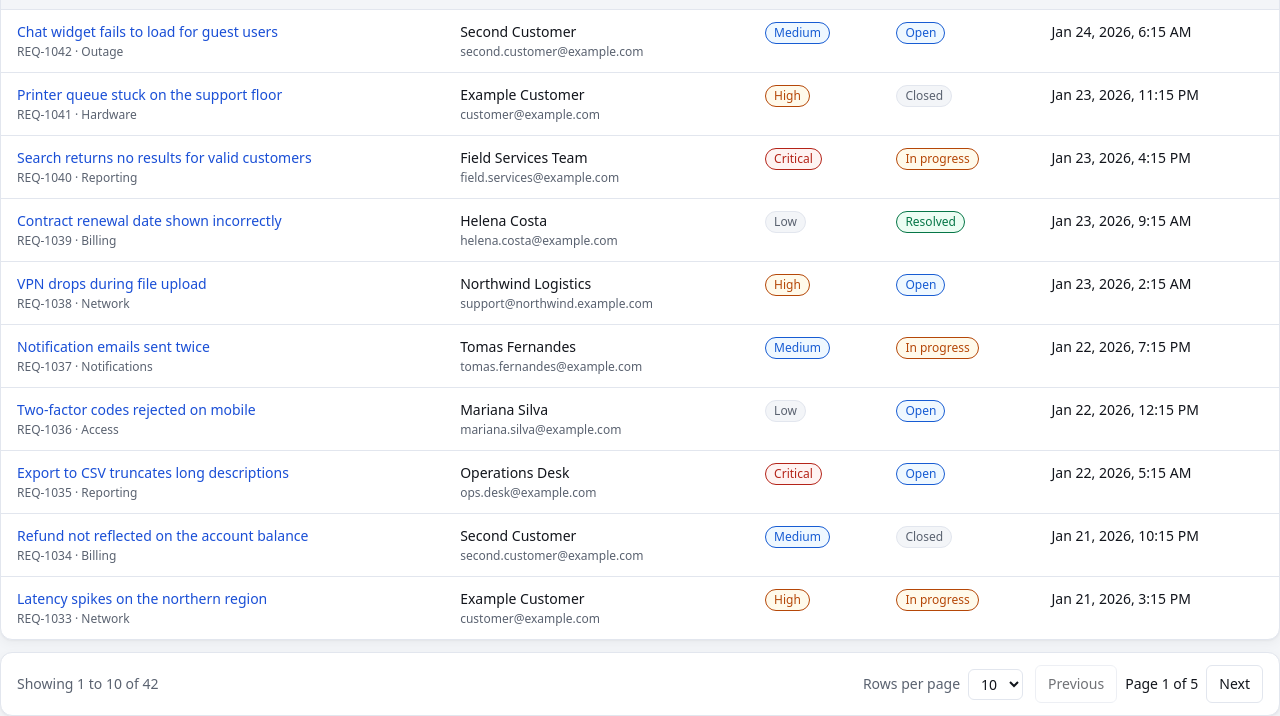
Test: RequestsListPage › keeps the previous page visible while the next one loads
(page scrolled)
Click the button "Next". click: (1235, 684)
box: 1206,665 -> 1263,703
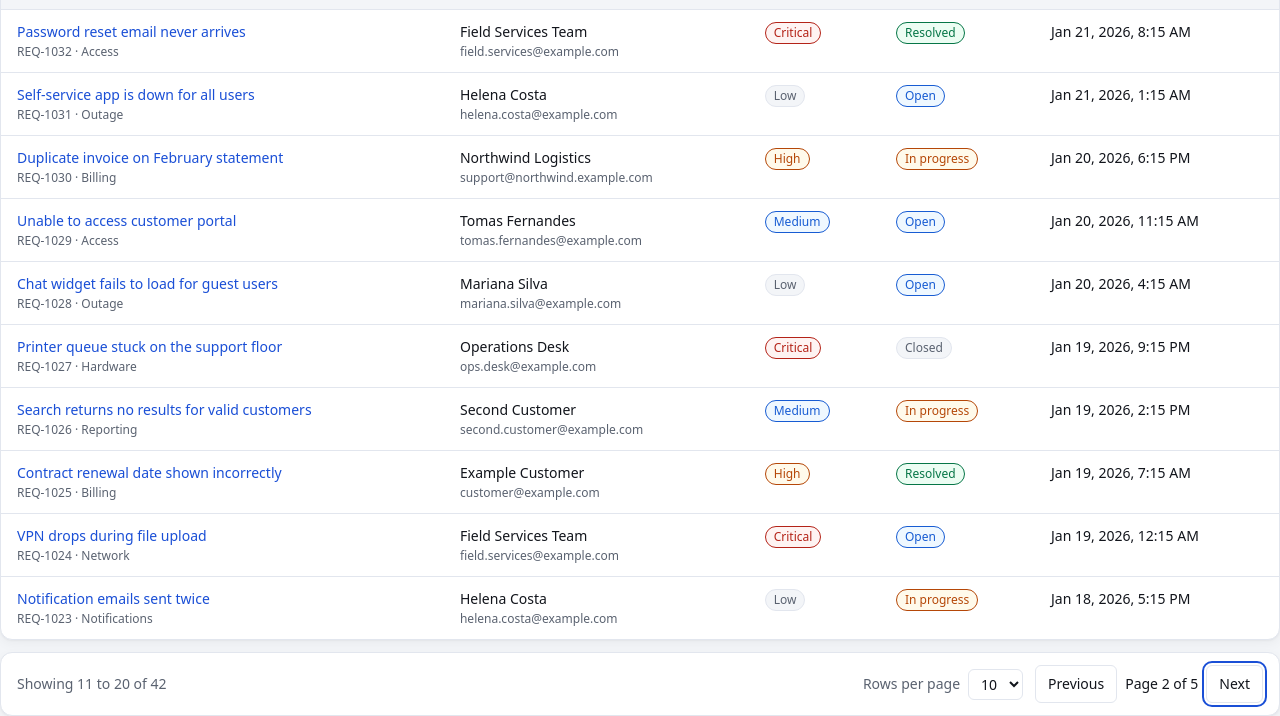
Now the text "Showing 11 to 20 of 42" is shown, box 17,674 -> 166,694
